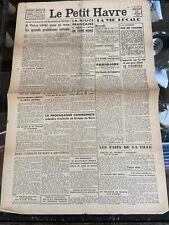paper: (2, 0, 169, 215)
